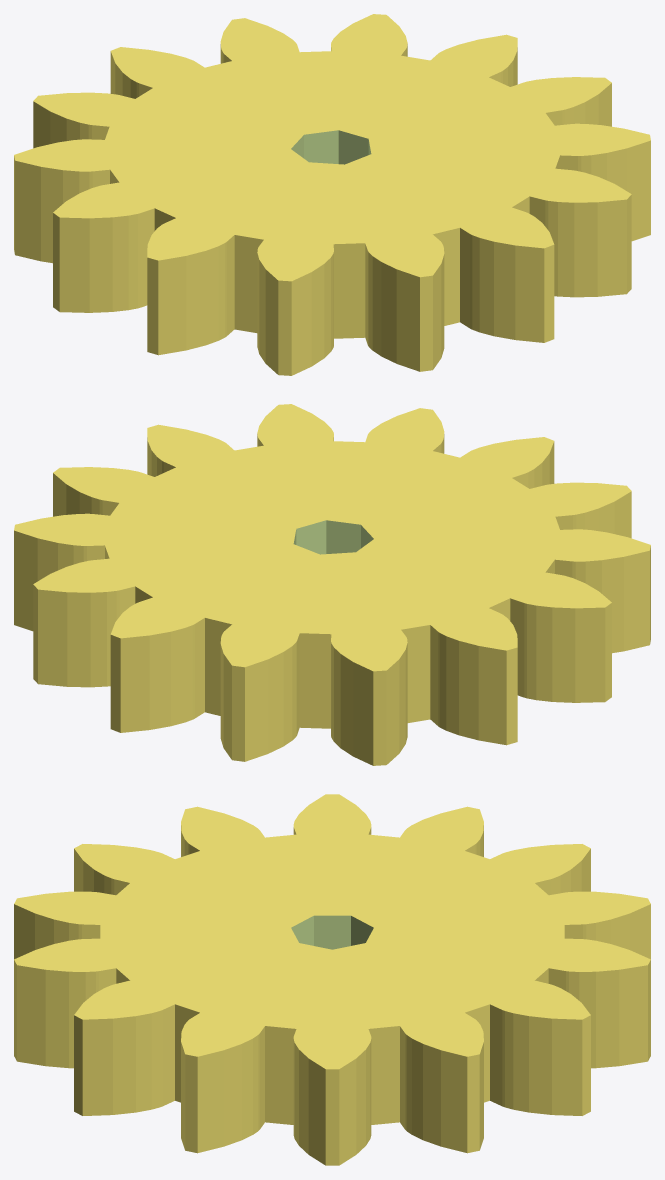
The model's file is gear.glb.
3 views of the same model, one above another, from view 1: azimuth 30°, elevation 25°; view 2: azimuth 150°, elevation 25°; view 3: azimuth 270°, elevation 25° (orthographic).
Bounding box in the file's own units: 30.55 × 5 × 29.93.
